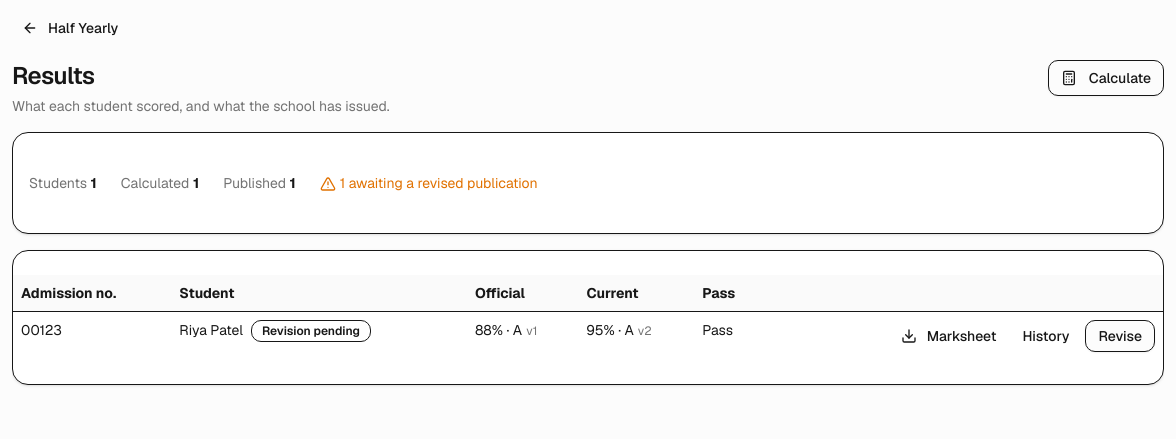
Test: the marksheet (EX-09) › reports a refused download without pretending it worked
The image size is (1176, 439).
Expected: the text "Riya Patel" is shown, [179,321,243,339]
Click the button with aria-label "marksheet for Riya Patel": [949, 336] box [891,320,1006,352]
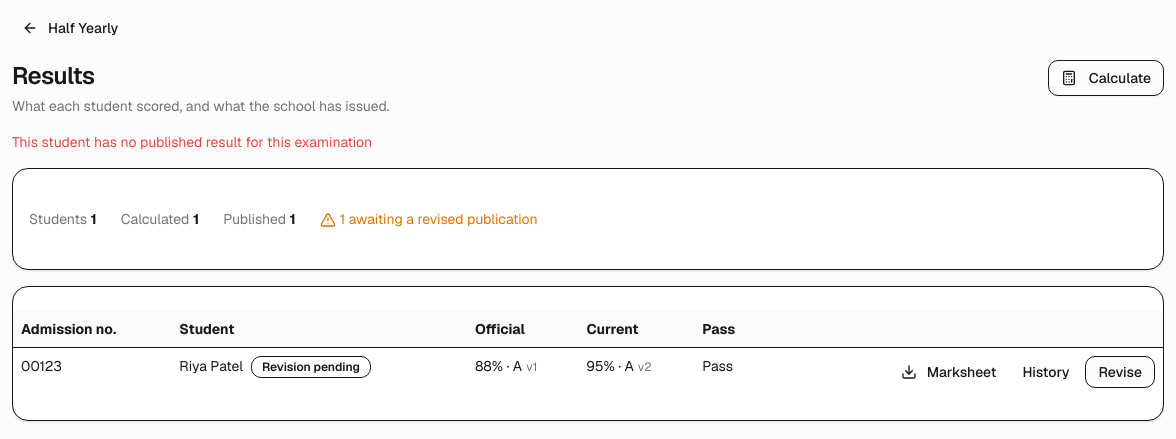
Now the message shows "no published result", box [12,133,372,151]
